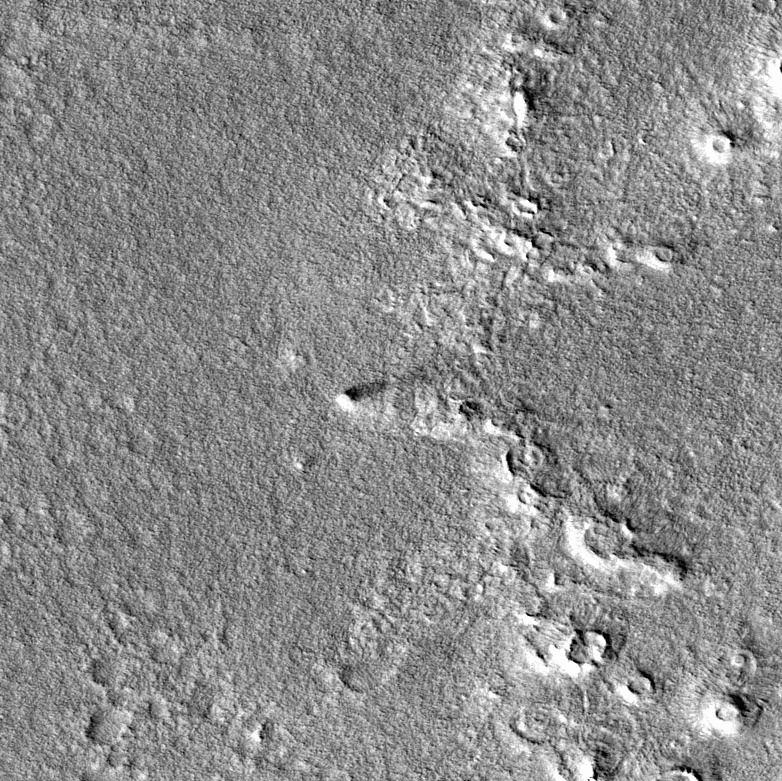dust_devil: (334, 377, 390, 413)
